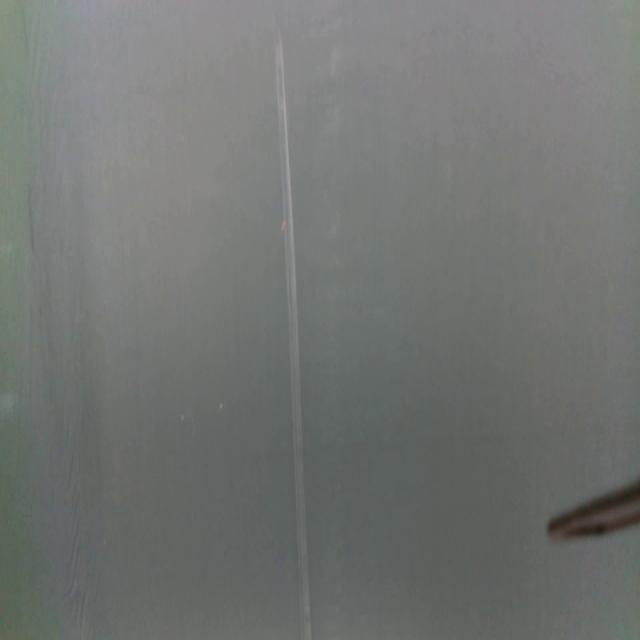crease: (276, 39, 312, 636)
